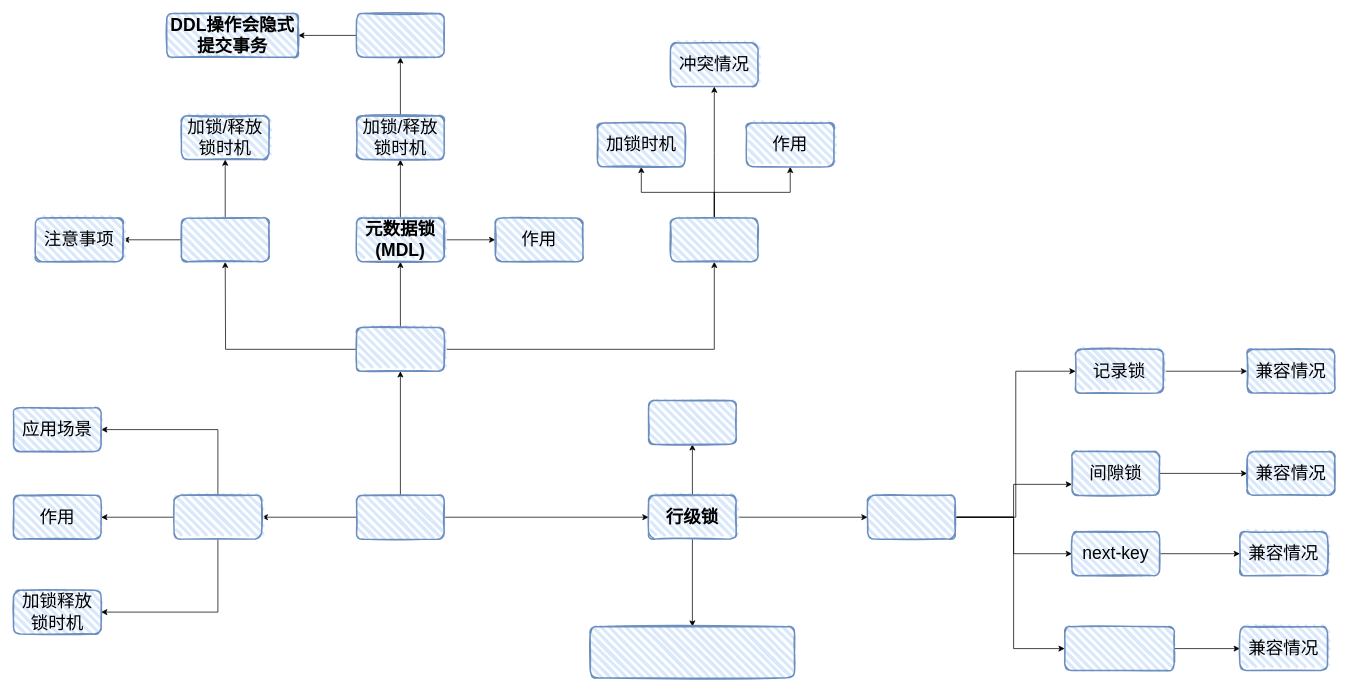
Some shapes in this 1348 by 691 pixel diagram are drawn without their labels. Here are the shapes that lost their labels. From the top down, the box of each, then its label:
(356, 12, 445, 58): 注意
(180, 217, 269, 262): 表锁
(669, 217, 758, 262): 意向锁
(356, 326, 445, 372): 表记锁
(648, 399, 737, 445): 加锁/释放时机
(173, 494, 262, 539): 全局锁
(356, 494, 445, 539): 锁的种类
(867, 494, 956, 539): 种类
(589, 626, 795, 678): insert语句怎么加行级锁
(1064, 626, 1175, 671): 插入意向锁
